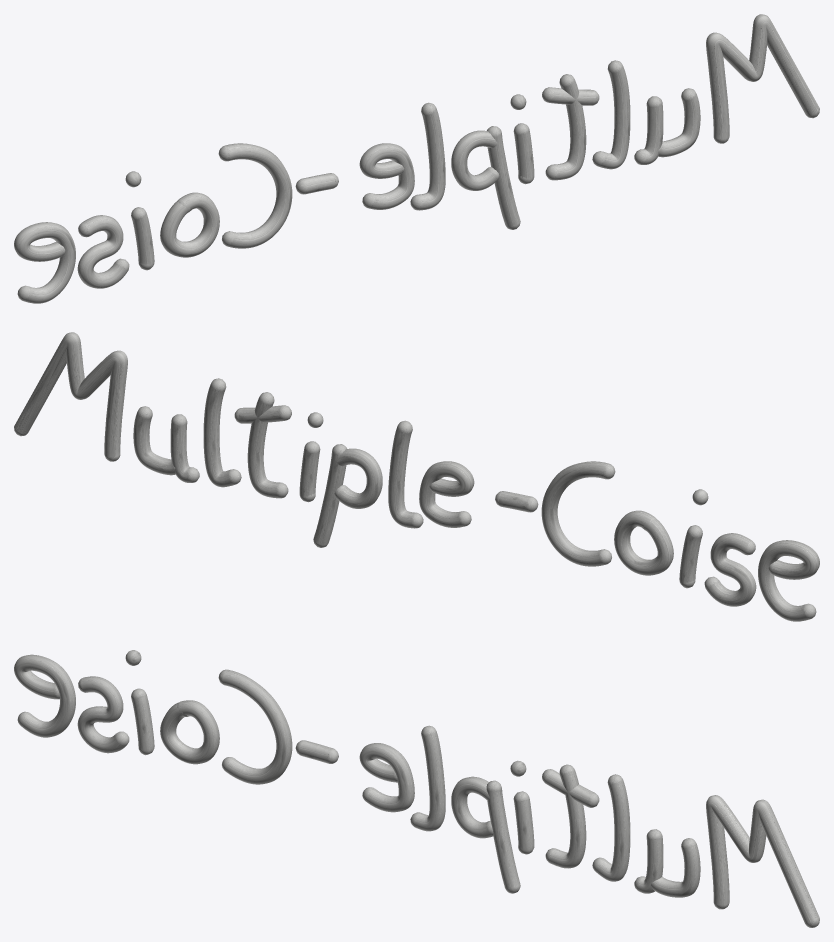
Rendered from 09bbc176-e9a8-4dd3-b21f-7277fd71a05e.obj.
The picture shows the model from 3 angles, top to bottom: view 1: azimuth 30°, elevation 25°; view 2: azimuth 150°, elevation 25°; view 3: azimuth 330°, elevation 25°; orthographic projection.
Visible parts, largest first — view 1: s.0400, s.0423, s.0415, s.0413, s.0422, s.0417, s.0403, s.0411, s.0404, s.0410, s.0409, s.0401 (+5 smaller); view 2: s.0400, s.0423, s.0415, s.0413, s.0422, s.0417, s.0403, s.0411, s.0404, s.0410, s.0409, s.0401 (+5 smaller); view 3: s.0400, s.0423, s.0415, s.0413, s.0417, s.0422, s.0403, s.0411, s.0404, s.0409, s.0410, s.0401 (+5 smaller).
Part boxes in pixels (x1,y1,x2,y2): s.0400: (706, 14, 819, 143); s.0423: (14, 222, 75, 303); s.0415: (218, 143, 292, 248); s.0413: (359, 143, 414, 209); s.0422: (77, 215, 129, 288); s.0417: (160, 192, 219, 257); s.0403: (592, 60, 630, 169); s.0411: (410, 102, 445, 210); s.0404: (545, 74, 586, 180); s.0410: (451, 130, 499, 190); s.0409: (487, 126, 520, 229); s.0401: (658, 88, 700, 157); s.0400: (14, 332, 127, 461); s.0423: (758, 540, 819, 621); s.0415: (541, 461, 615, 566); s.0413: (419, 461, 474, 527); s.0422: (704, 533, 756, 606); s.0417: (614, 510, 673, 575); s.0403: (203, 378, 241, 487); s.0411: (388, 420, 423, 528); s.0404: (247, 392, 288, 498); s.0410: (334, 448, 382, 508); s.0409: (313, 444, 346, 547); s.0401: (133, 406, 175, 475); s.0400: (706, 795, 819, 927); s.0423: (14, 654, 75, 737); s.0415: (218, 669, 292, 784); s.0413: (359, 743, 414, 812); s.0417: (160, 700, 219, 764); s.0422: (77, 676, 129, 753); s.0403: (592, 774, 630, 881); s.0411: (410, 725, 445, 831); s.0404: (545, 764, 586, 868); s.0409: (486, 780, 520, 893); s.0410: (451, 776, 493, 838); s.0401: (651, 838, 700, 897).
Size of the model in its own units: 1.79 by 0.326 by 0.0309.
Materials: 1 (1 with a texture image).
